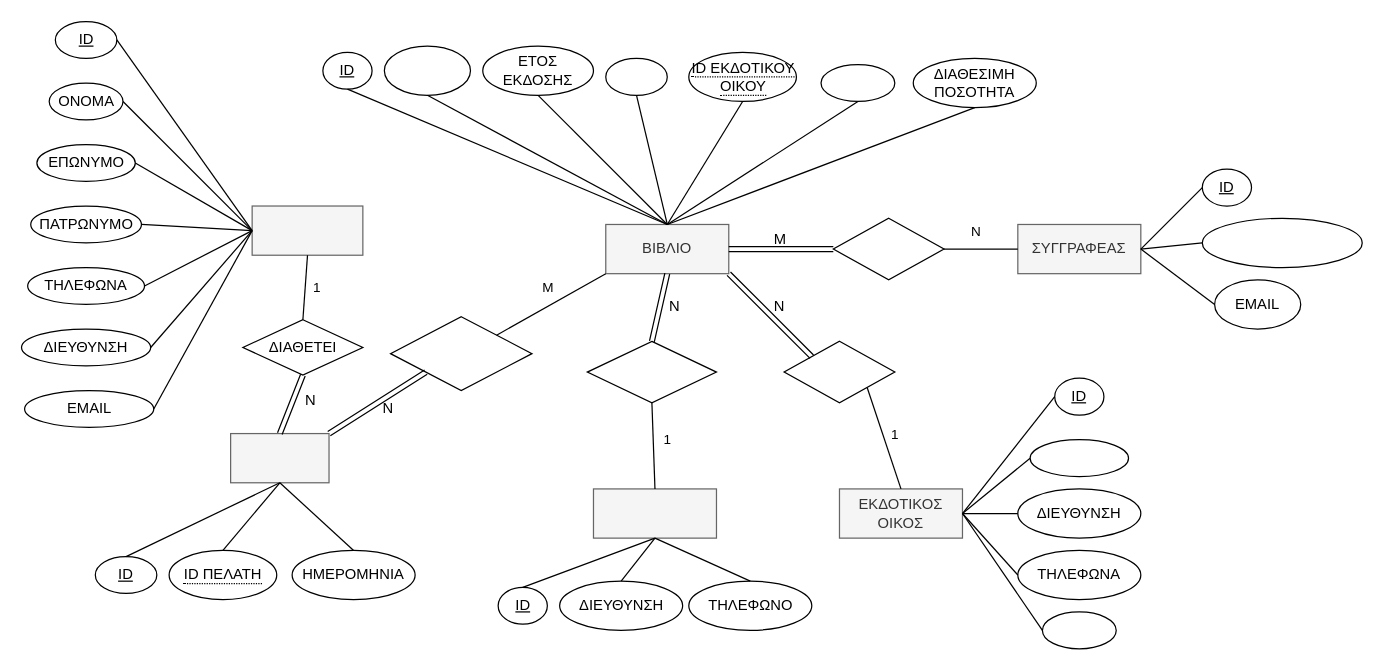
This 1384x670 diagram has some shape labels left out. Each missing label, with the centre of its shape:
"ISBN" belongs at [636,76].
"URL" belongs at [1078,630].
"ΑΠΟΘΗΚΗ" belongs at [654,513].
"ΕΚΔΟΣΗ" belongs at [839,371].
"ΚΑΛΑΘΙ ΑΓΟΡΩΝ" belongs at [279,457].
"ΟΝΟΜΑ" belongs at [1079,457].
"ΟΝΟΜΑΤΕΠΩΝΥΜΟ" belongs at [1281,242].
"ΠΕΛΑΤΗΣ" belongs at [307,230].
"ΠΕΡΙΕΧΟΜΕΝΟ ΚΑΛΑΘΙΟΥ" belongs at [460,353].
"ΣΥΓΓΡΑΦΗ" belongs at [888,248].
"ΤΙΜΗ" belongs at [857,82].
"ΤΙΤΛΟΣ" belongs at [426,70].
"ΤΟΠΟΘΕΣΙΑ" belongs at [651,371].
